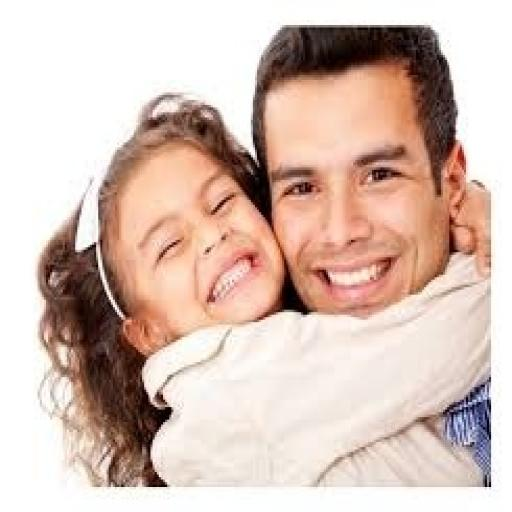hugging: (34, 20, 494, 487)
